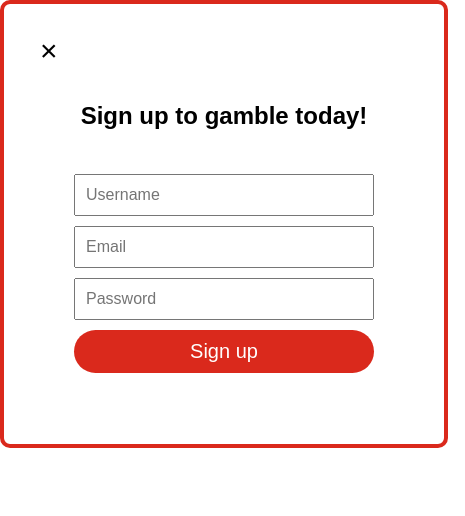
Test case: Register › shows validation errors on empty submit
Click the button "Sign up" at (224, 351), box [74,330,374,373]
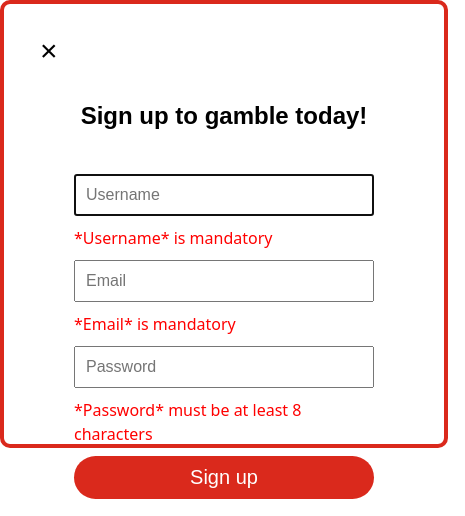
Now the text "*Username* is mandatory" is shown, box [74,227,272,249]
Now the text "*Email* is mandatory" is shown, box [74,313,236,335]
